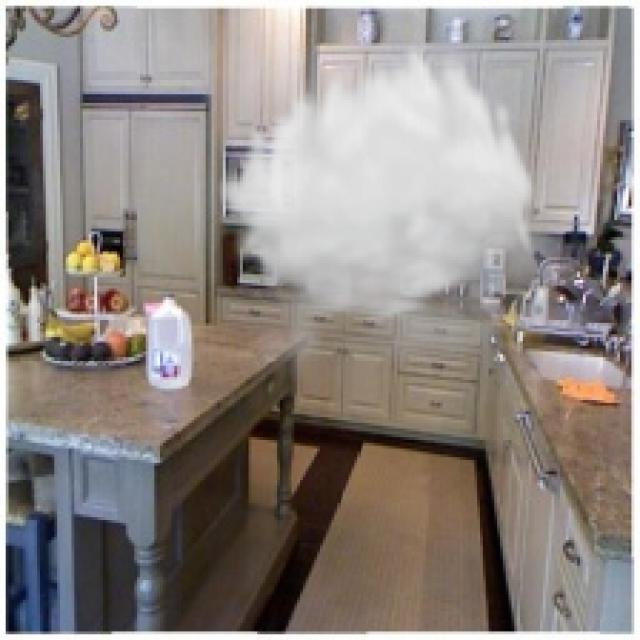smoke: (214, 34, 606, 389)
